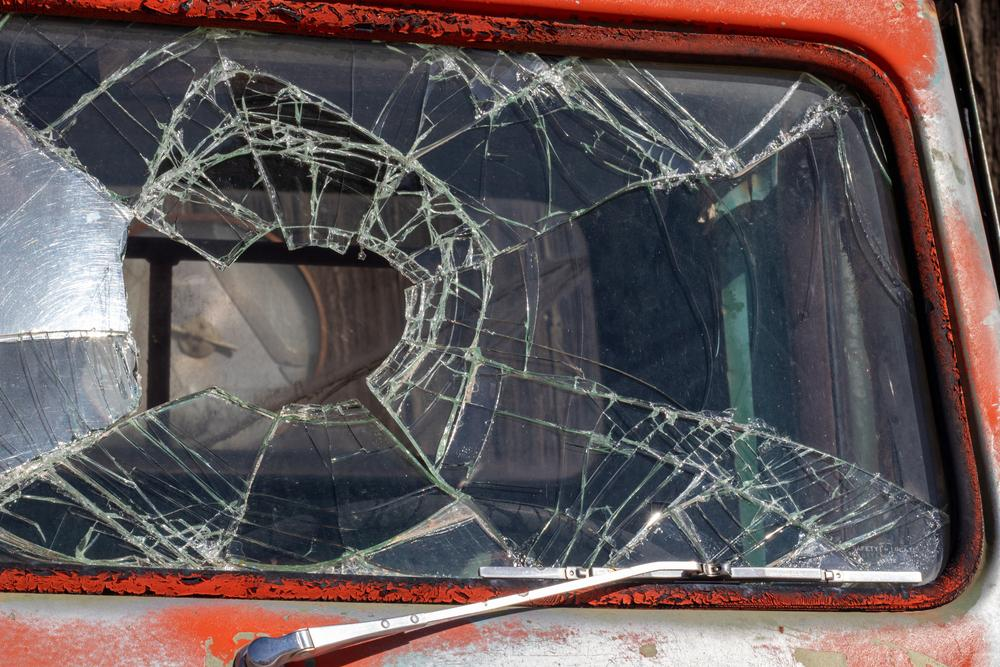glass shatter: (0, 9, 955, 587)
